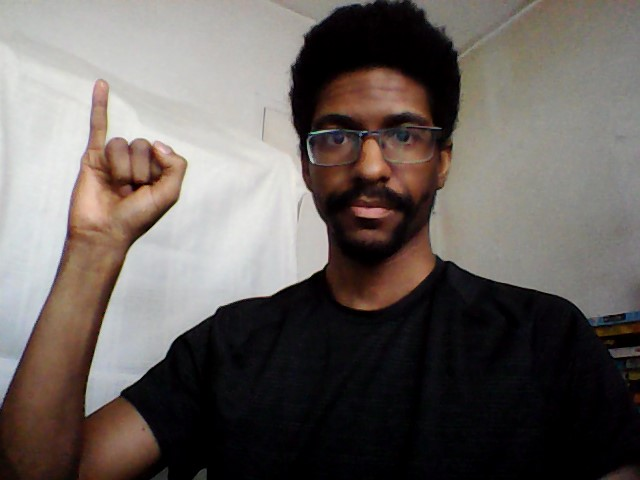i: (61, 70, 190, 257)
